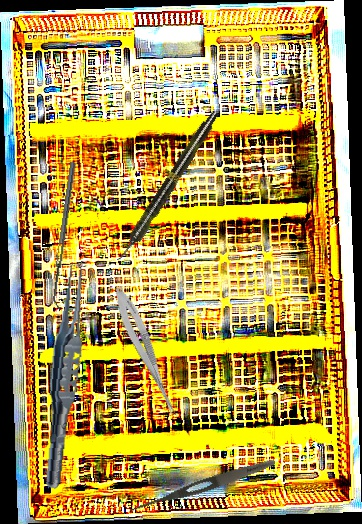Dressing Forceps: (128, 455, 277, 518)
Handpiece: (113, 108, 222, 265)
Micro Scissor: (108, 283, 187, 423)
Spatula Surgical: (49, 161, 82, 311)
Tissue Forceps: (39, 257, 91, 491)
